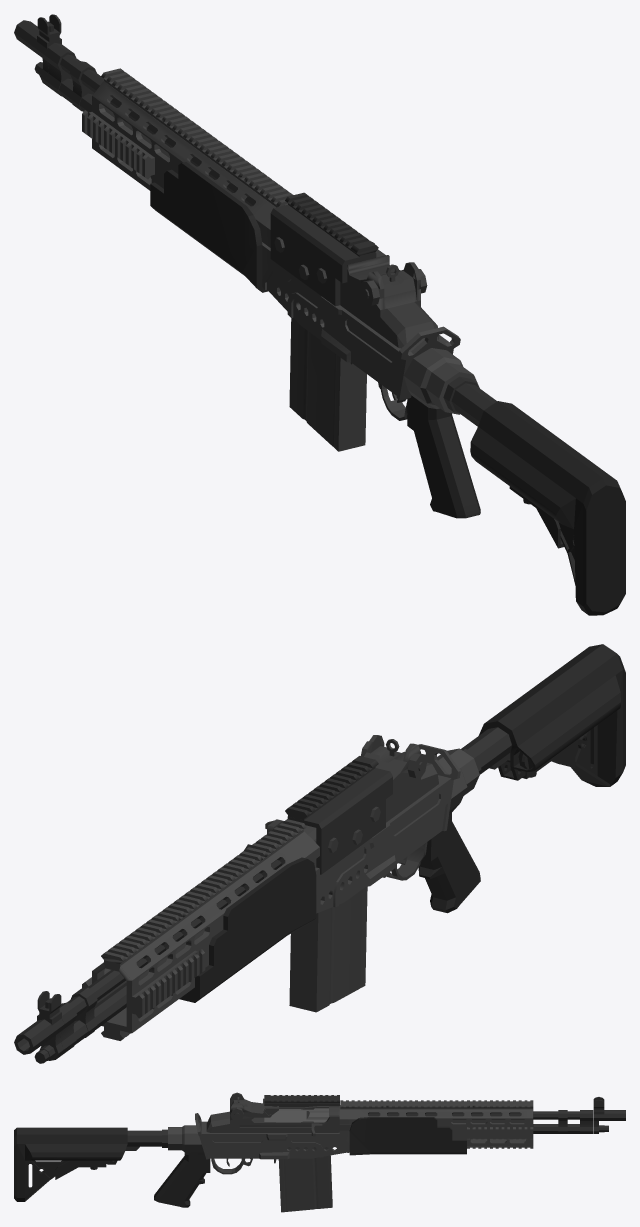
3 renders of one model, top to bottom at view 1: azimuth 30°, elevation 25°; view 2: azimuth 150°, elevation 25°; view 3: azimuth 270°, elevation 25°, orthographic. The views are drawn at different scales.
Parts seen in each view (by area): view 1: Stock_Sopmod, Body_MK14, handguard, Magazine_Standard, Reciever, grip, Side_Rail_Attachment, Pic_Rail_Top, Stock_Mount, Pic_Rail_Left, Pic_Rail, Buffer_Tube (+4 smaller); view 2: Body_MK14, Stock_Sopmod, handguard, Magazine_Standard, Pic_Rail_Top, Side_Rail_Attachment, grip, Reciever, Pic_Rail_Left, Flashhider_Short, Pic_Rail, Buffer_Tube (+7 smaller); view 3: Body_MK14, Stock_Sopmod, handguard, Magazine_Standard, Reciever, Pic_Rail_Top, grip, Stock_Mount, Pic_Rail_Right, Bolt, Barrel_Short, Buffer_Tube (+10 smaller).
Part boxes in pixels (bbox=[...]): Stock_Sopmod: bbox=[470, 401, 625, 615]; Body_MK14: bbox=[92, 81, 448, 395]; handguard: bbox=[150, 162, 268, 292]; Magazine_Standard: bbox=[289, 318, 366, 451]; Reciever: bbox=[340, 255, 438, 348]; grip: bbox=[407, 395, 480, 518]; Side_Rail_Attachment: bbox=[270, 204, 376, 306]; Pic_Rail_Top: bbox=[101, 68, 293, 207]; Stock_Mount: bbox=[403, 348, 479, 414]; Pic_Rail_Left: bbox=[82, 110, 154, 179]; Pic_Rail: bbox=[285, 192, 378, 256]; Buffer_Tube: bbox=[443, 376, 497, 426]; Body_MK14: bbox=[92, 775, 451, 1033]; Stock_Sopmod: bbox=[478, 644, 625, 786]; handguard: bbox=[179, 844, 316, 1002]; Magazine_Standard: bbox=[289, 886, 367, 1012]; Pic_Rail_Top: bbox=[101, 819, 306, 966]; Side_Rail_Attachment: bbox=[287, 768, 392, 874]; grip: bbox=[418, 813, 480, 913]; Reciever: bbox=[303, 735, 438, 842]; Pic_Rail_Left: bbox=[132, 949, 205, 1018]; Flashhider_Short: bbox=[14, 991, 64, 1060]; Pic_Rail: bbox=[285, 756, 378, 820]; Buffer_Tube: bbox=[461, 727, 511, 774]; Body_MK14: bbox=[201, 1105, 533, 1159]; Stock_Sopmod: bbox=[14, 1127, 127, 1201]; handguard: bbox=[349, 1117, 466, 1155]; Magazine_Standard: bbox=[278, 1147, 332, 1212]; Reciever: bbox=[206, 1092, 339, 1132]; Pic_Rail_Top: bbox=[340, 1100, 533, 1109]; grip: bbox=[154, 1154, 210, 1207]; Stock_Mount: bbox=[168, 1125, 204, 1154]; Pic_Rail_Right: bbox=[467, 1127, 533, 1139]; Bolt: bbox=[264, 1108, 328, 1122]; Barrel_Short: bbox=[368, 1111, 579, 1119]; Buffer_Tube: bbox=[125, 1129, 167, 1150].
Bounding box in the file's own units: 0.0181 × 0.0429 × 0.2125.
7 materials, 7 textured.
